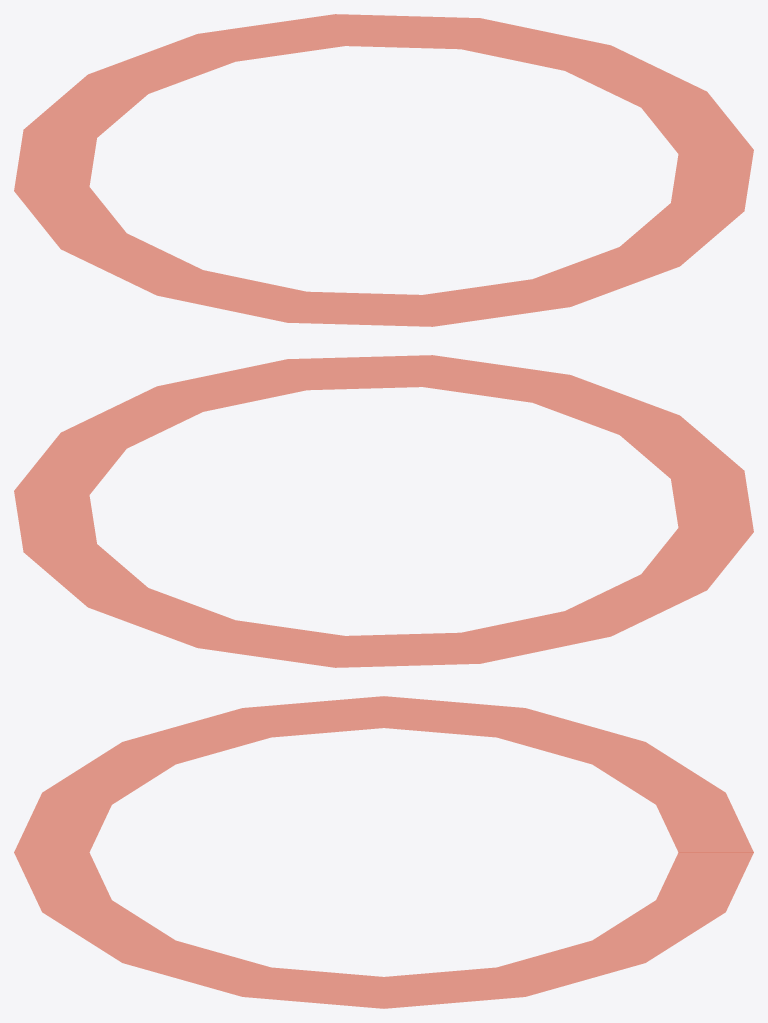
Rendered from self_marker_red.glb.
3 views of the same model, one above another, from view 1: azimuth 30°, elevation 25°; view 2: azimuth 150°, elevation 25°; view 3: azimuth 270°, elevation 25° (orthographic).
Visible parts, largest first — view 1: marker_blue; view 2: marker_blue; view 3: marker_blue.
Boxes of the visible parts, x1,y1,x2,y2 form: marker_blue: (14,14,753,326); marker_blue: (14,355,753,667); marker_blue: (14,696,753,1008).
Size of what is drawn, in the model's own units: 1.01 by 0 by 1.01.
